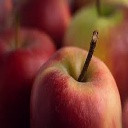apple: (30, 43, 123, 128)
